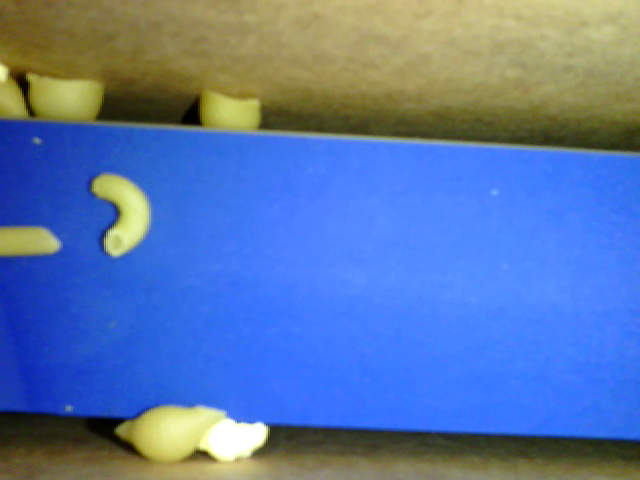elbow: (90, 172, 149, 256)
penne: (1, 228, 62, 257)
shell: (113, 405, 227, 464), (27, 73, 104, 121), (199, 89, 262, 132)
